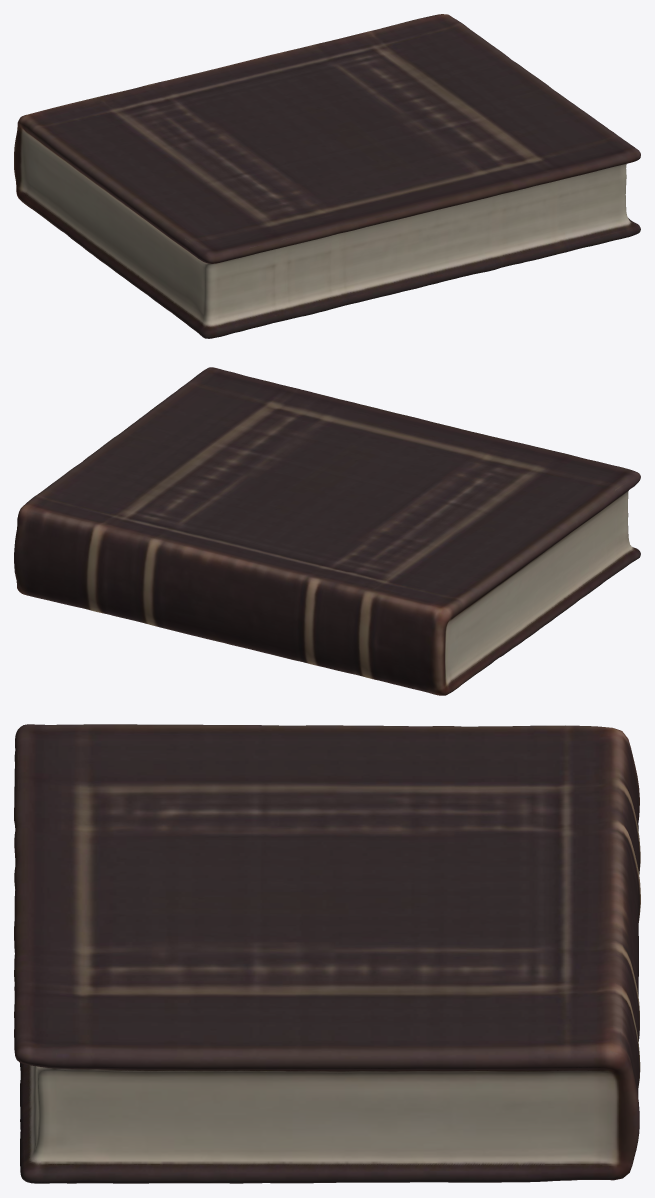
The model's file is 3d_book.glb.
The picture shows the model from 3 angles, top to bottom: view 1: azimuth 30°, elevation 25°; view 2: azimuth 150°, elevation 25°; view 3: azimuth 270°, elevation 25°; orthographic projection. The views are drawn at different scales.
Visible parts, largest first — view 1: Object_4; view 2: Object_4; view 3: Object_4.
Part boxes in pixels (<box>): Object_4: <box>14,14,640,338</box>; Object_4: <box>14,367,640,695</box>; Object_4: <box>14,724,640,1183</box>.
Bounding box in the file's own units: 0.9979 × 0.1867 × 0.7927.
1 material, 1 textured.
